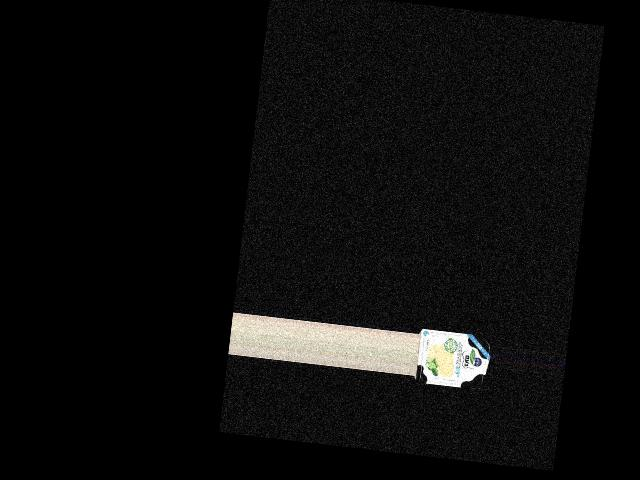cheese: (412, 325, 492, 393)
